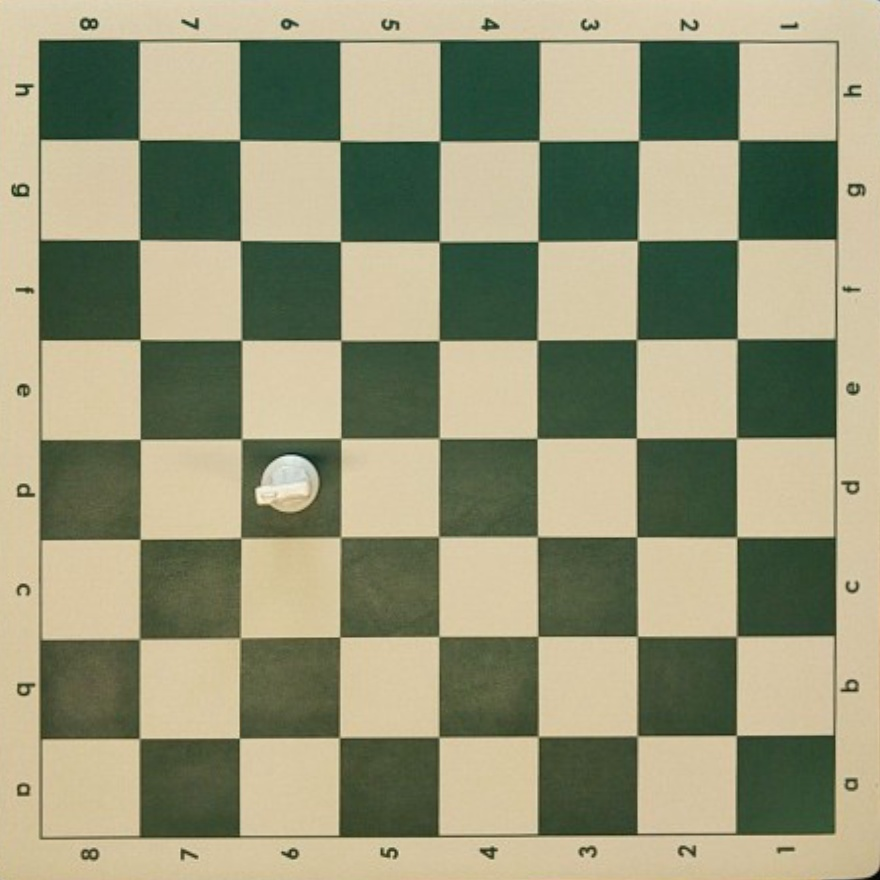white-knight: (255, 454, 320, 514)
